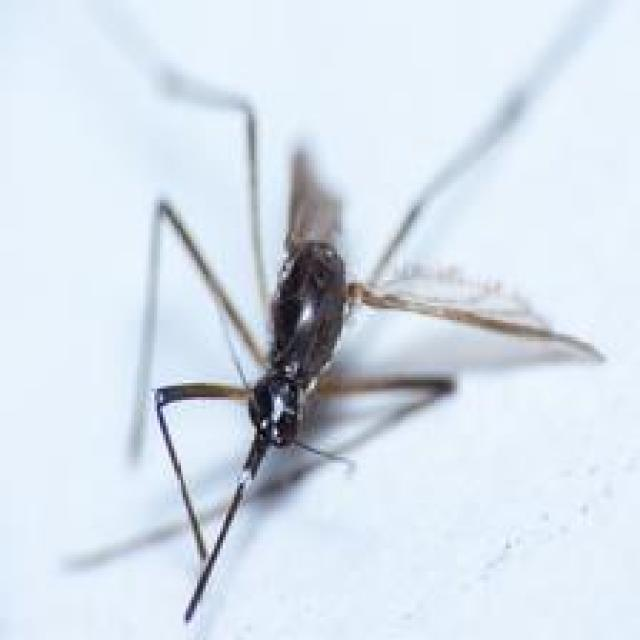Aedes albopictus: (57, 0, 629, 629)
